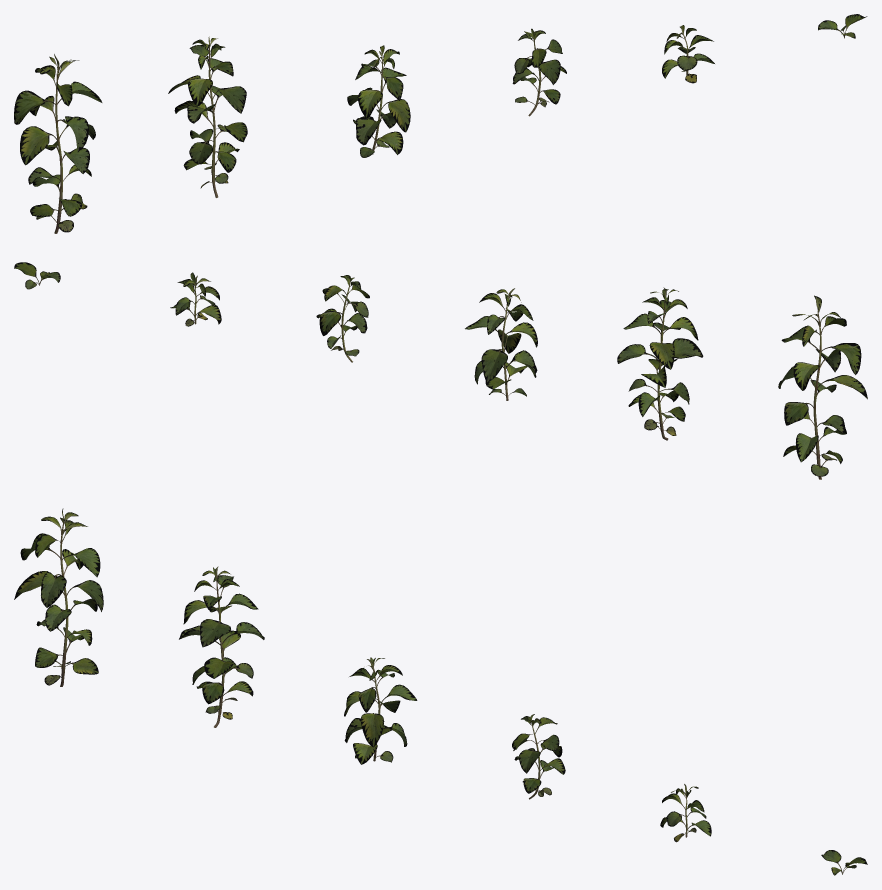
File: nettle_plant.glb
3 renders of one model, top to bottom at view 1: azimuth 30°, elevation 25°; view 2: azimuth 150°, elevation 25°; view 3: azimuth 330°, elevation 25°, orthographic.
Parts seen in each view (by area): view 1: nettle_plant_tall_a_LOD0, nettle_plant_tall_b_LOD0, nettle_plant_medium_a_LOD0, nettle_plant_medium_b_LOD0, nettle_plant_small_a_LOD0; view 2: nettle_plant_tall_a_LOD0, nettle_plant_tall_b_LOD0, nettle_plant_medium_a_LOD0, nettle_plant_medium_b_LOD0, nettle_plant_small_a_LOD0, nettle_plant_small_b_LOD0; view 3: nettle_plant_tall_a_LOD0, nettle_plant_tall_b_LOD0, nettle_plant_medium_a_LOD0, nettle_plant_medium_b_LOD0, nettle_plant_small_a_LOD0.
Boxes of the visible parts, x1,y1,x2,y2 form: nettle_plant_tall_a_LOD0: (14,54,102,233); nettle_plant_tall_b_LOD0: (168,36,247,197); nettle_plant_medium_a_LOD0: (347,45,410,157); nettle_plant_medium_b_LOD0: (512,28,566,116); nettle_plant_small_a_LOD0: (662,25,714,83); nettle_plant_tall_a_LOD0: (778,295,867,479); nettle_plant_tall_b_LOD0: (617,287,703,440); nettle_plant_medium_a_LOD0: (465,288,537,400); nettle_plant_medium_b_LOD0: (316,275,369,362); nettle_plant_small_a_LOD0: (170,272,221,326); nettle_plant_small_b_LOD0: (14,262,60,289); nettle_plant_tall_a_LOD0: (14,508,103,686); nettle_plant_tall_b_LOD0: (179,566,264,727); nettle_plant_medium_a_LOD0: (344,657,417,764); nettle_plant_medium_b_LOD0: (512,714,565,799); nettle_plant_small_a_LOD0: (660,784,711,842).
Size of the model in its own units: 1.08 by 0.2184 by 0.0947.
Materials: 1 (1 with a texture image).
